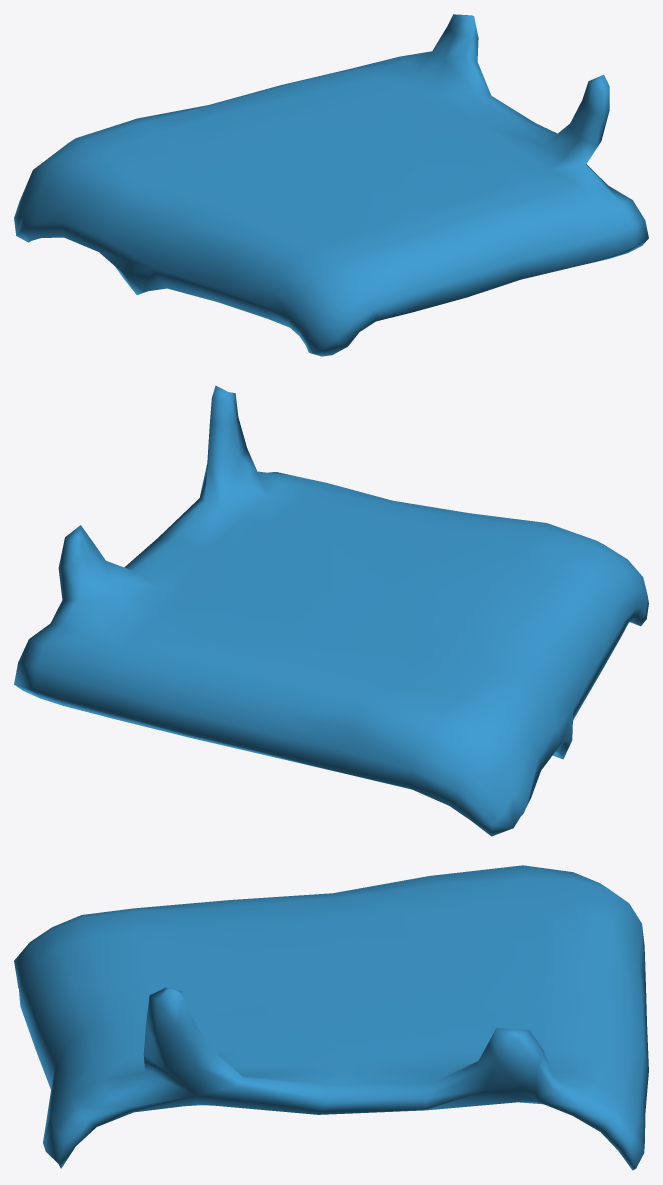
Rendered from housesnow_01_Retopo.FBX.
3 renders of one model, top to bottom at view 1: azimuth 30°, elevation 25°; view 2: azimuth 150°, elevation 25°; view 3: azimuth 270°, elevation 25°, orthographic. The views are drawn at different scales.
Visible parts, largest first — view 1: housesnow_01_Retopo; view 2: housesnow_01_Retopo; view 3: housesnow_01_Retopo.
Part boxes in pixels (bbox=[...]): housesnow_01_Retopo: bbox=[14, 14, 648, 356]; housesnow_01_Retopo: bbox=[14, 385, 648, 836]; housesnow_01_Retopo: bbox=[14, 865, 648, 1170].
Size of the model in its own units: 622 by 251 by 607.
